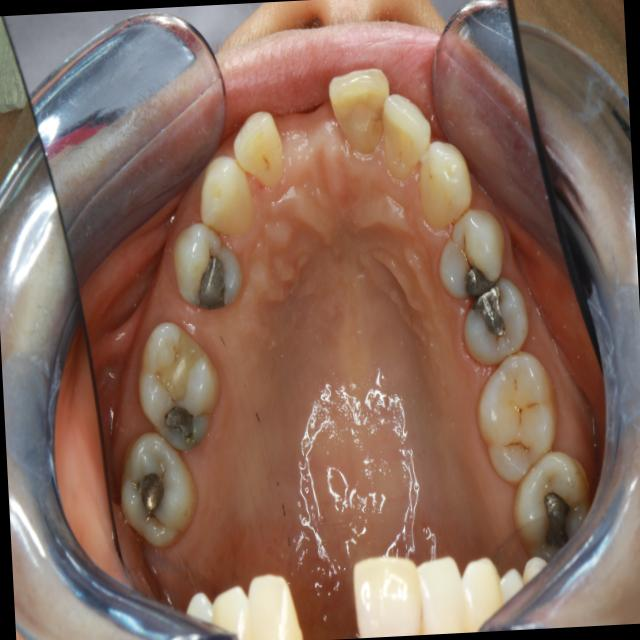tooth: (468, 338, 566, 496), (127, 313, 226, 463), (112, 424, 210, 560), (500, 444, 598, 568), (430, 193, 514, 311), (454, 271, 537, 379), (321, 57, 399, 171), (167, 217, 251, 317), (191, 141, 263, 247), (411, 131, 478, 240), (376, 80, 437, 190), (225, 102, 292, 198)
